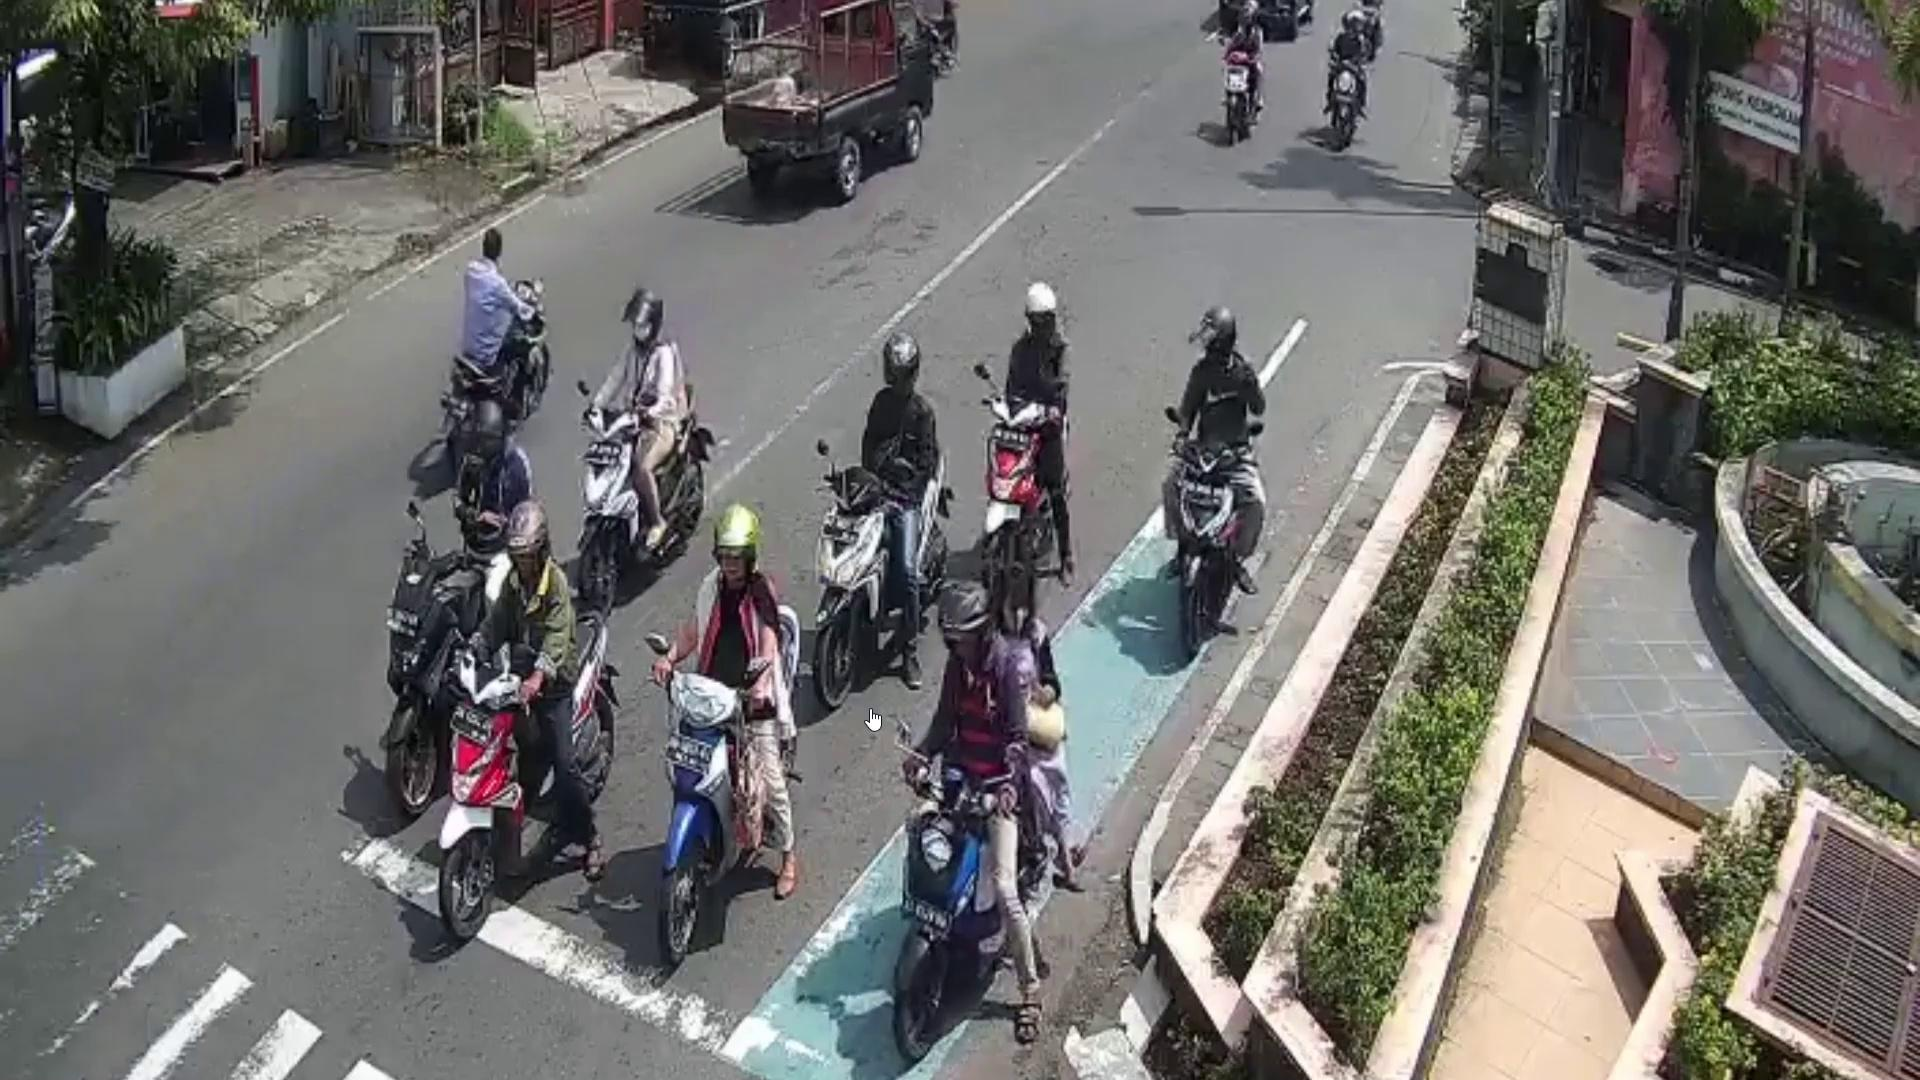car: (727, 0, 934, 202)
motorbike: (440, 608, 611, 948), (659, 600, 806, 948), (818, 444, 947, 728), (382, 542, 484, 822), (897, 770, 992, 1065), (580, 381, 700, 601), (446, 272, 547, 425), (982, 388, 1055, 596), (1176, 438, 1241, 657), (1224, 50, 1262, 141), (1331, 58, 1360, 156)
